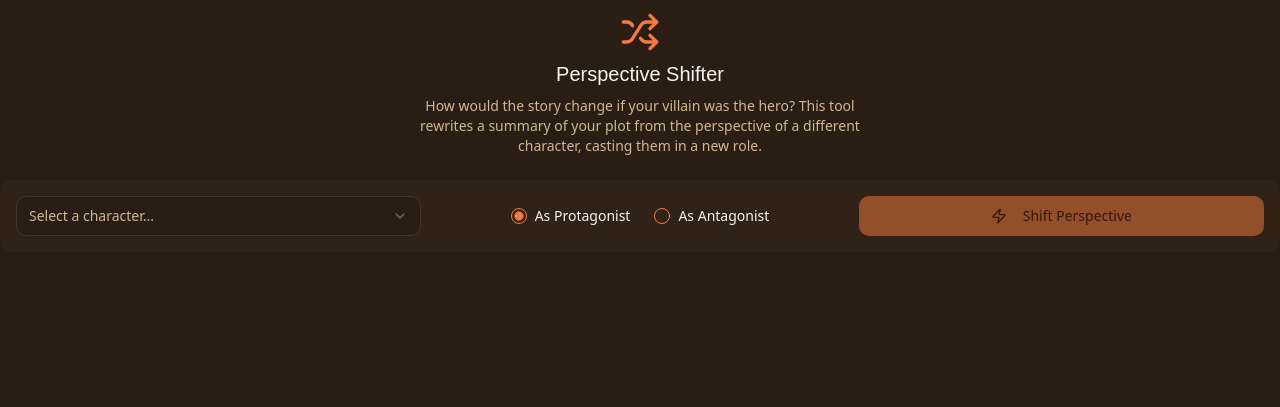
Test: Analysis Tools Success Path Handling › should show results for PerspectiveShifter
Click the dropdown at (92,216), box x1=16 y1=196 x2=421 y2=236
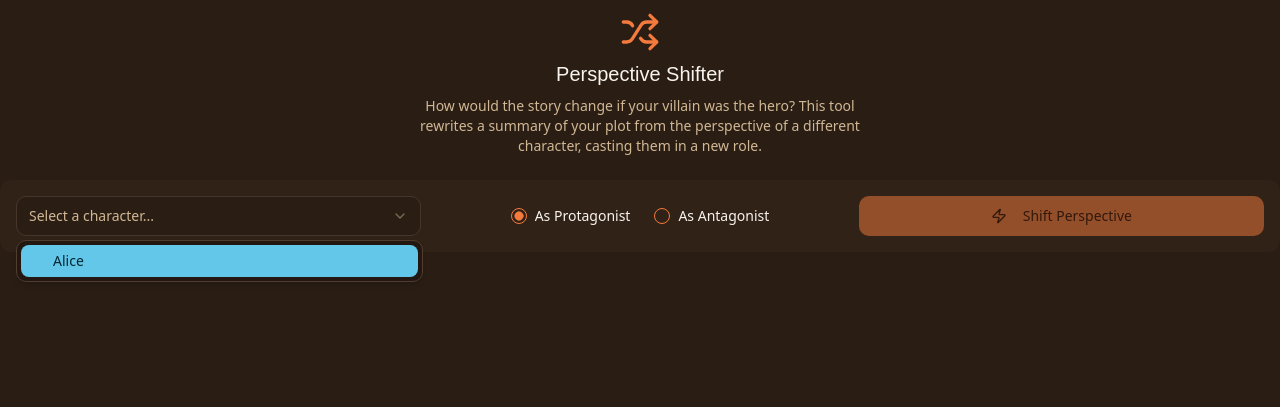
Click the option "Alice" at (68,260), box x1=21 y1=245 x2=418 y2=277
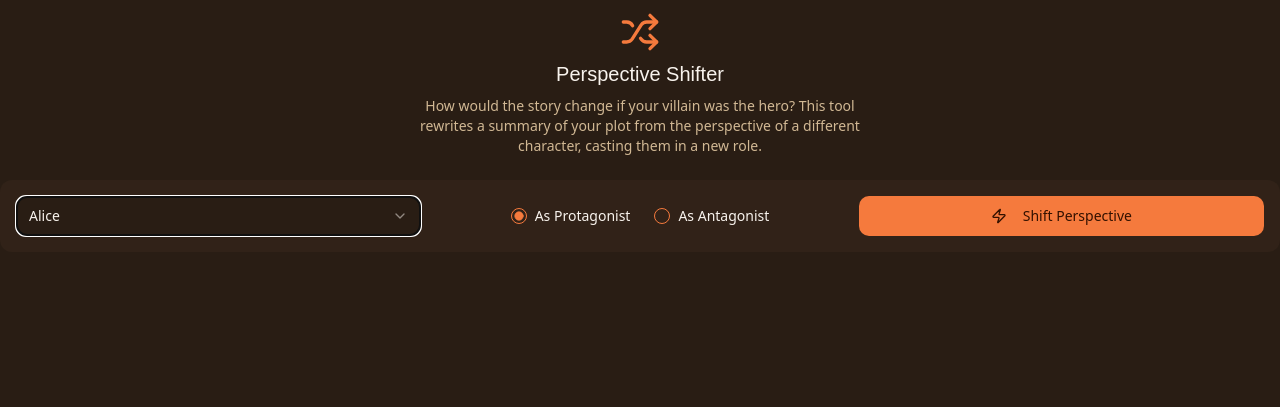
Click the button "Shift Perspective" at (1061,216), box x1=859 y1=196 x2=1264 y2=236
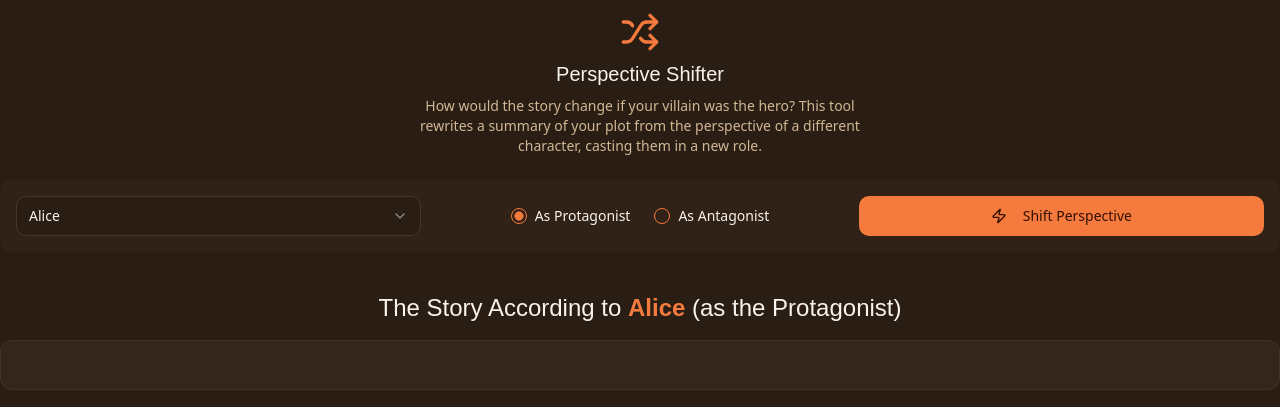
Result: the heading "The Story According to Alice (as the Protagonist)" is shown at x1=378 y1=294 x2=902 y2=321
